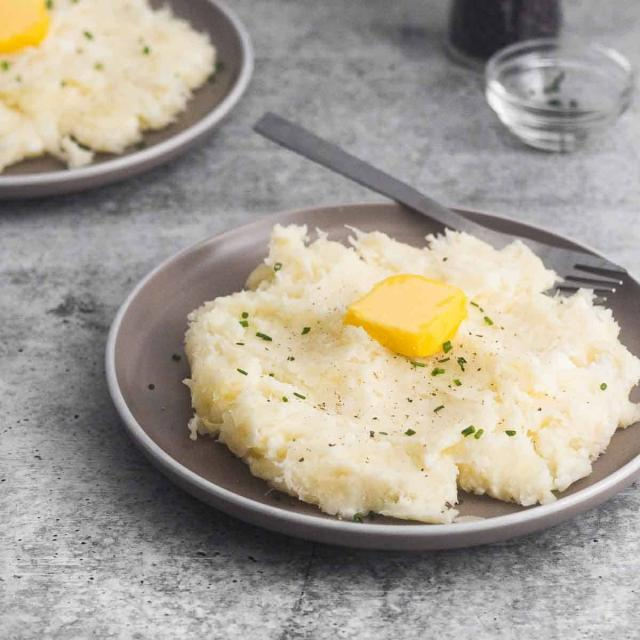papa: (180, 213, 638, 521)
